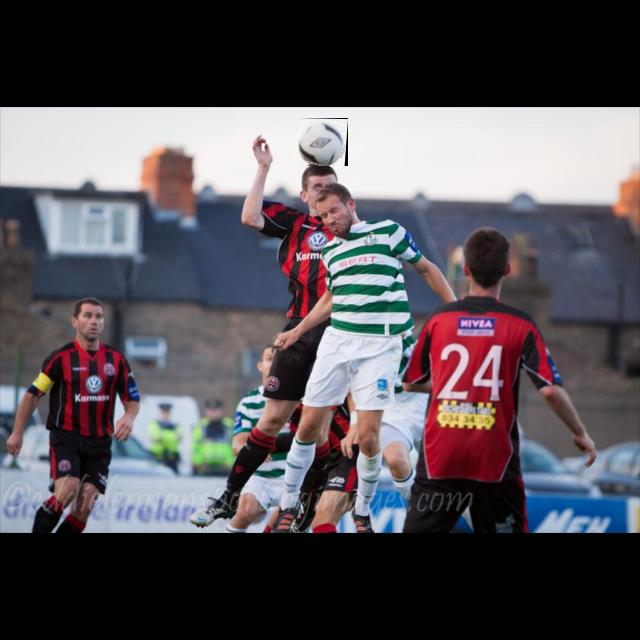Football: (298, 118, 348, 166)
